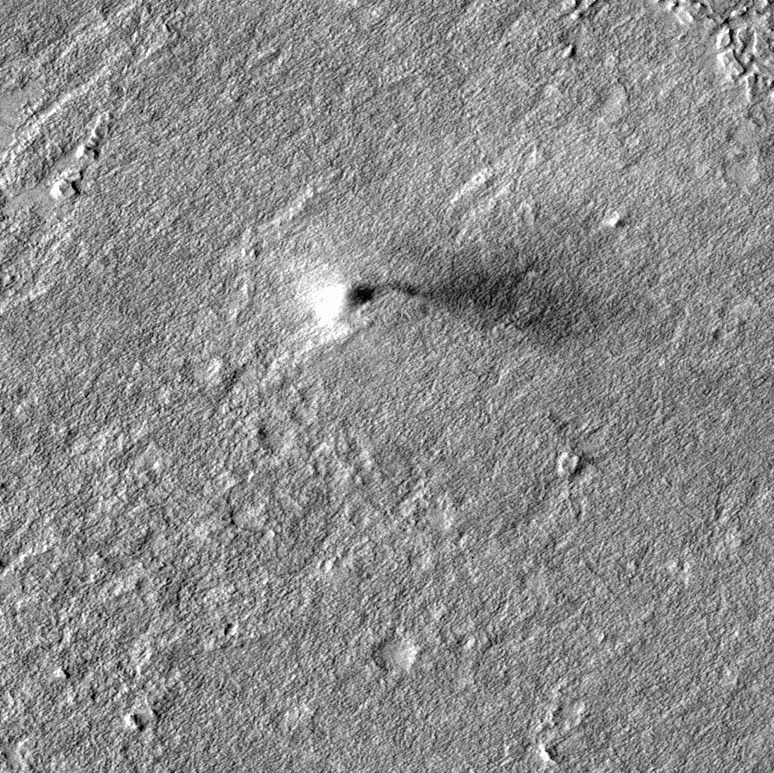dust_devil: (304, 261, 584, 350)
